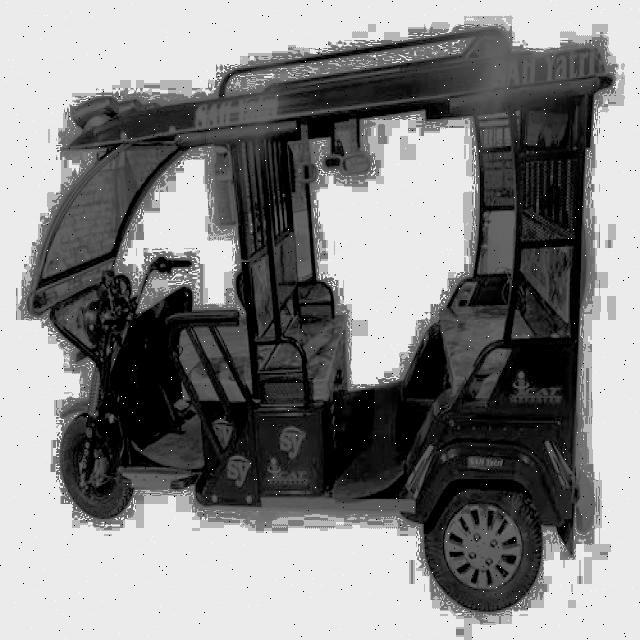Toto: (45, 47, 599, 605)
